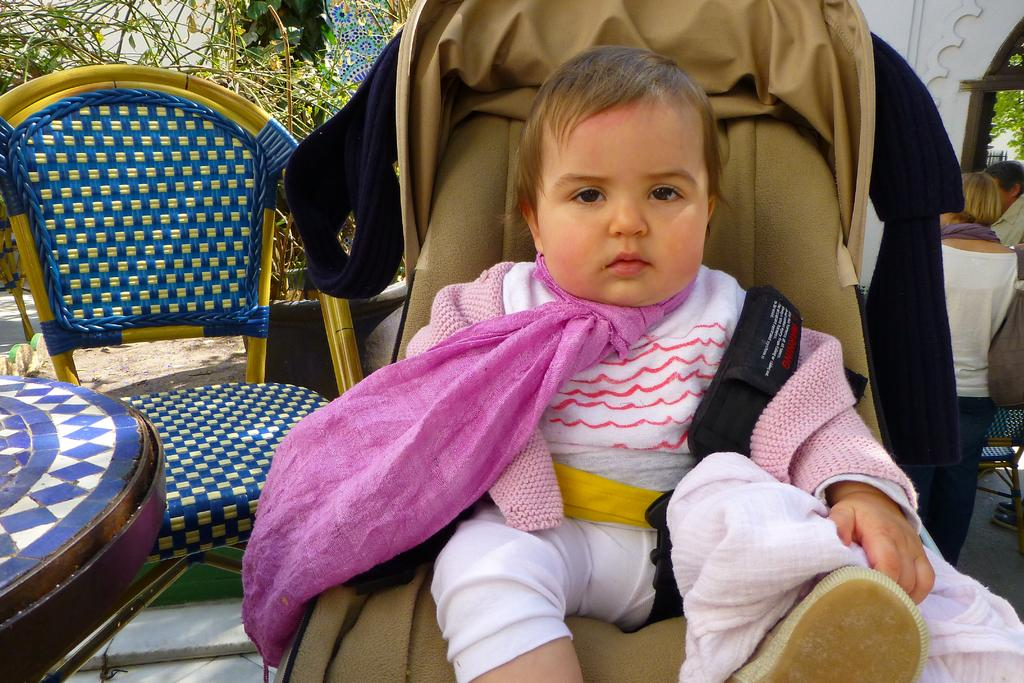Chair: (267, 0, 921, 681), (0, 64, 332, 681)
